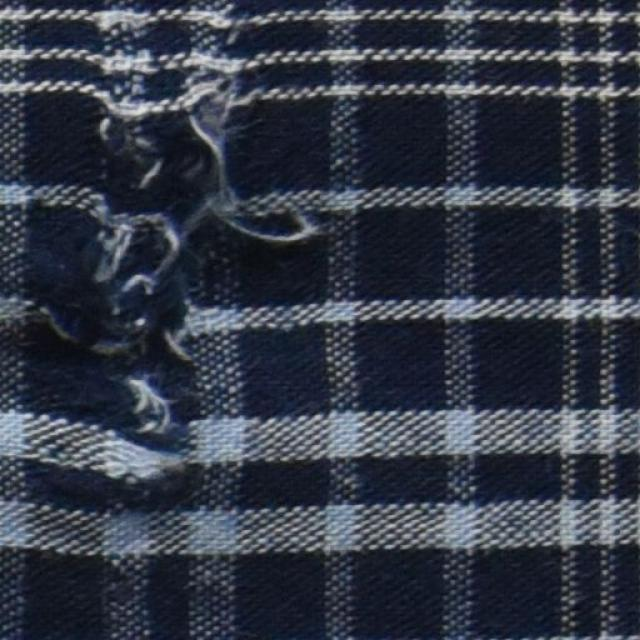Snag: (16, 33, 315, 451)
